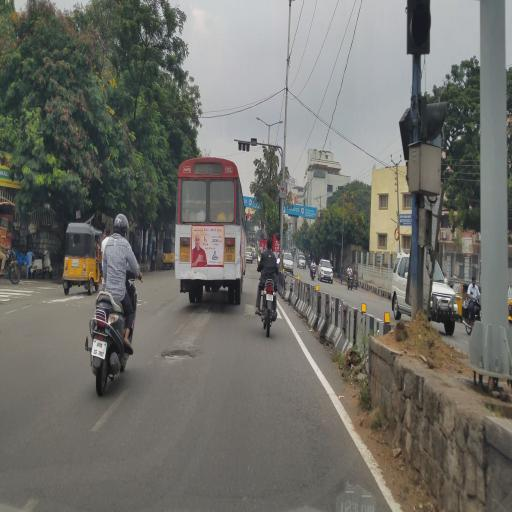street_light_0: (247, 104, 270, 140), (269, 111, 284, 139)
